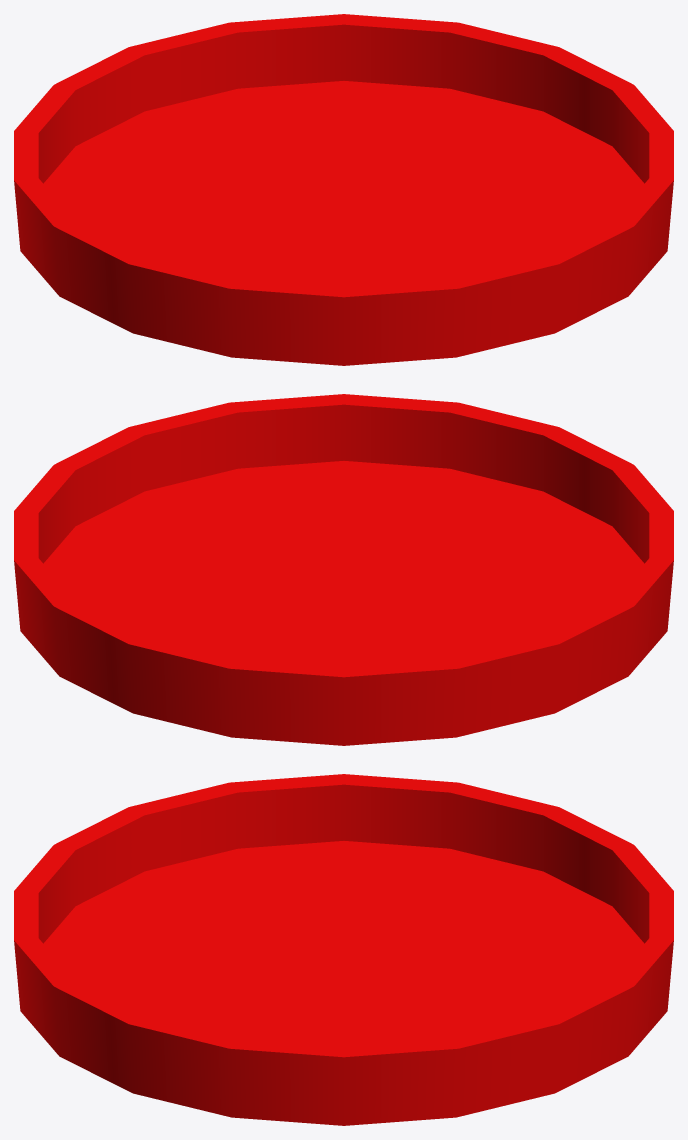
Rendered from LabProp01.fbx.
3 renders of one model, top to bottom at view 1: azimuth 30°, elevation 25°; view 2: azimuth 150°, elevation 25°; view 3: azimuth 270°, elevation 25°, orthographic.
Visible parts, largest first — view 1: LabProp01; view 2: LabProp01; view 3: LabProp01.
Part boxes in pixels (<box>): LabProp01: <box>14,14,673,365</box>; LabProp01: <box>14,394,673,745</box>; LabProp01: <box>14,774,673,1125</box>.
Size of the model in its own units: 17.83 by 2.1 by 17.56.
